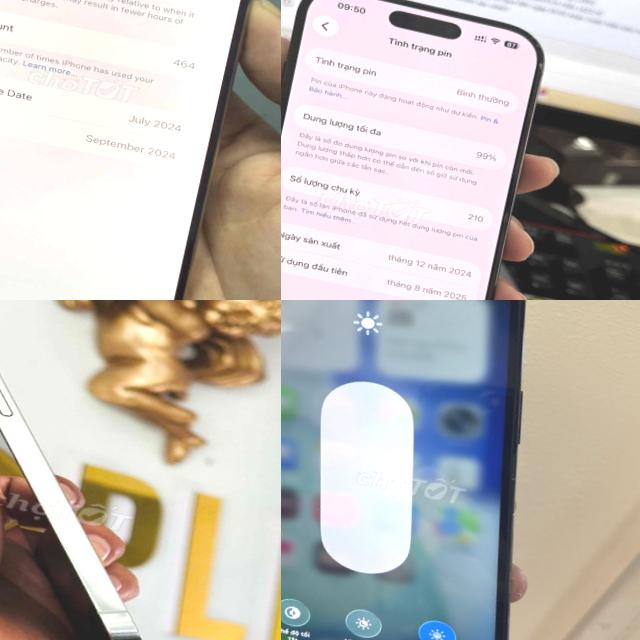gen_12_13: (281, 300, 592, 640), (0, 300, 214, 640)
gen_15: (0, 0, 281, 300)
gen_16: (281, 0, 542, 300)
